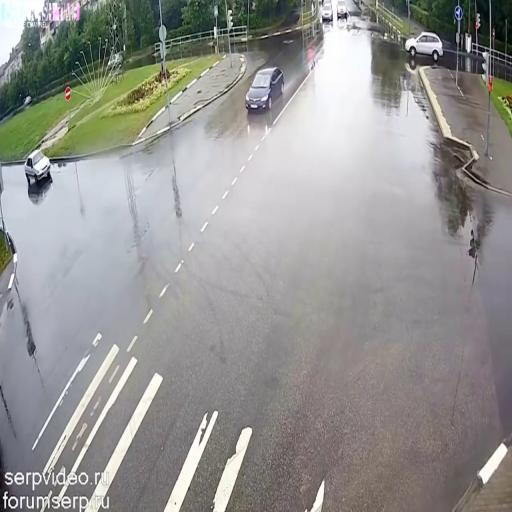小汽车: (248, 66, 284, 115), (403, 26, 441, 61), (20, 150, 53, 190), (321, 0, 333, 24)
